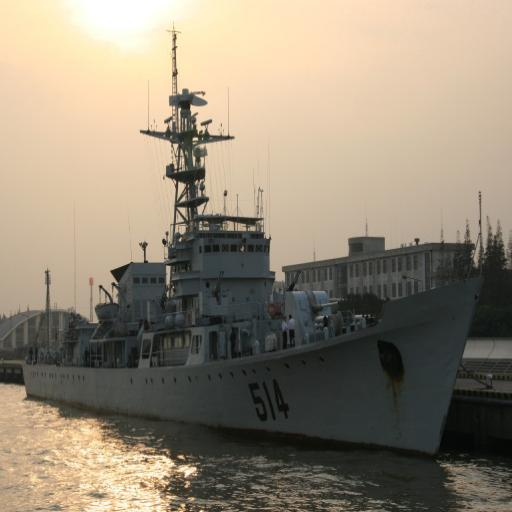Fragata: (20, 1, 492, 464)
